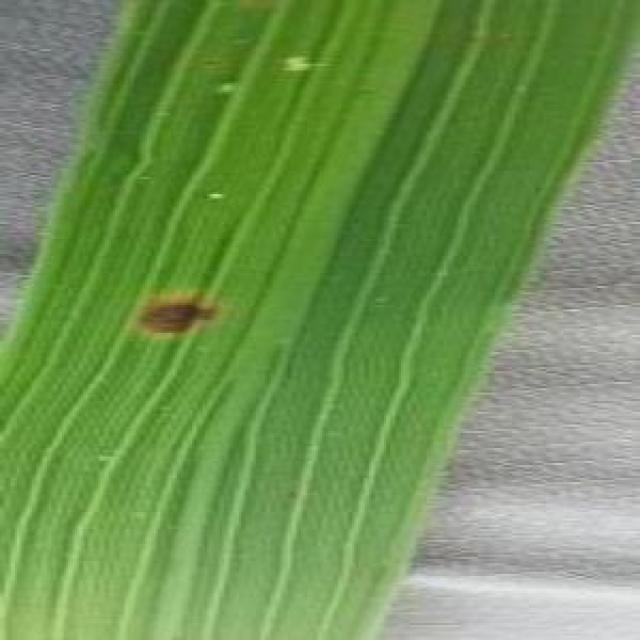Brown_Spot: (130, 292, 222, 351)
